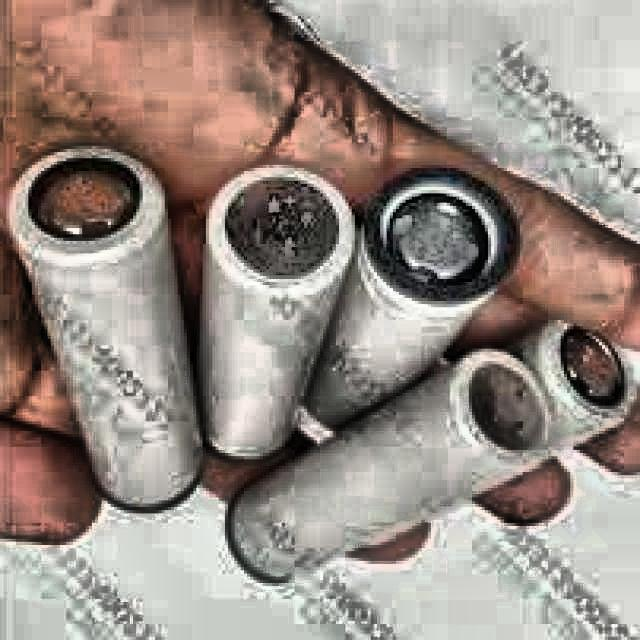battery: (228, 323, 634, 583), (10, 149, 200, 513), (307, 166, 516, 428), (203, 162, 354, 459)
